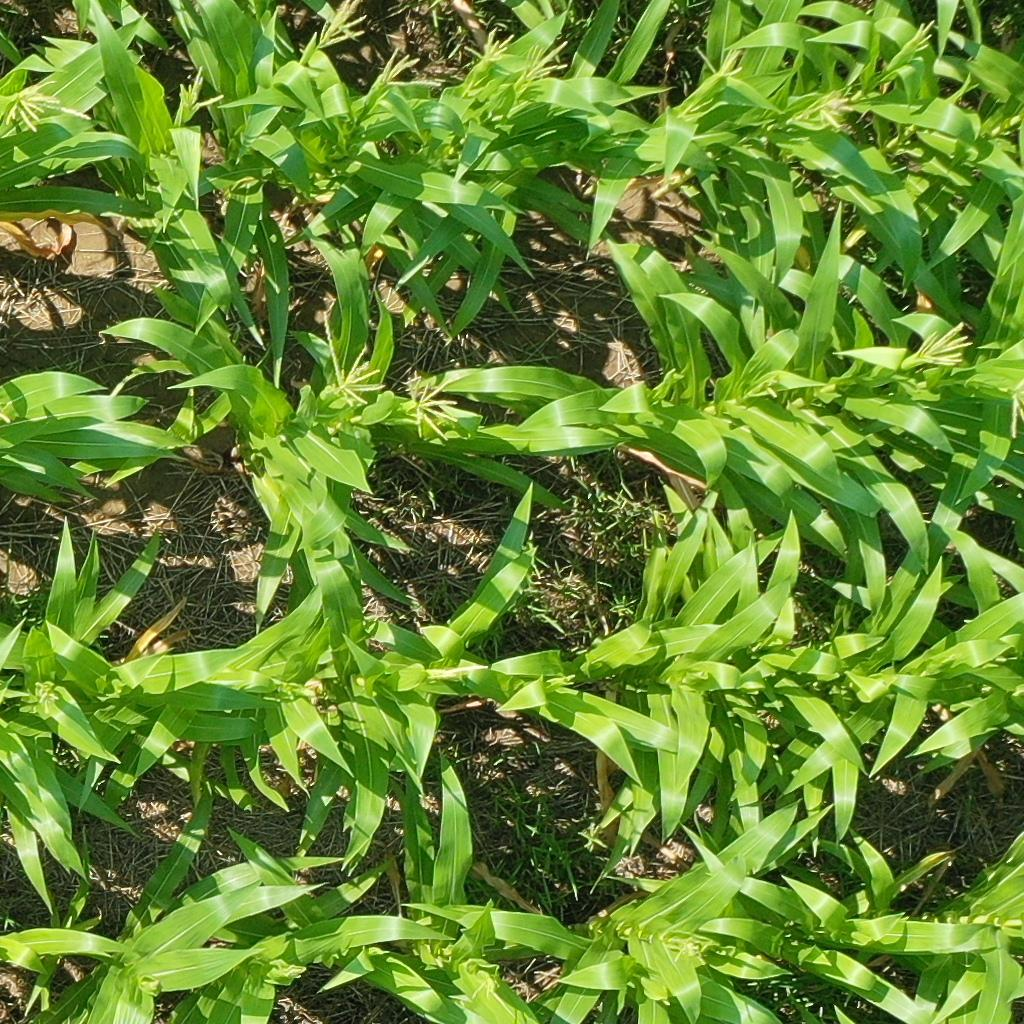Tassel: (314, 308, 389, 405), (1, 75, 98, 132), (404, 373, 468, 446), (517, 31, 578, 89), (912, 319, 978, 370), (885, 15, 942, 72), (378, 44, 441, 93), (315, 1, 371, 53), (461, 23, 522, 67), (176, 65, 226, 113), (694, 43, 747, 81), (815, 88, 857, 131), (420, 661, 486, 682), (1007, 373, 1024, 438), (32, 682, 65, 713), (672, 940, 707, 965), (752, 372, 782, 401), (474, 968, 502, 999), (544, 673, 584, 685)
